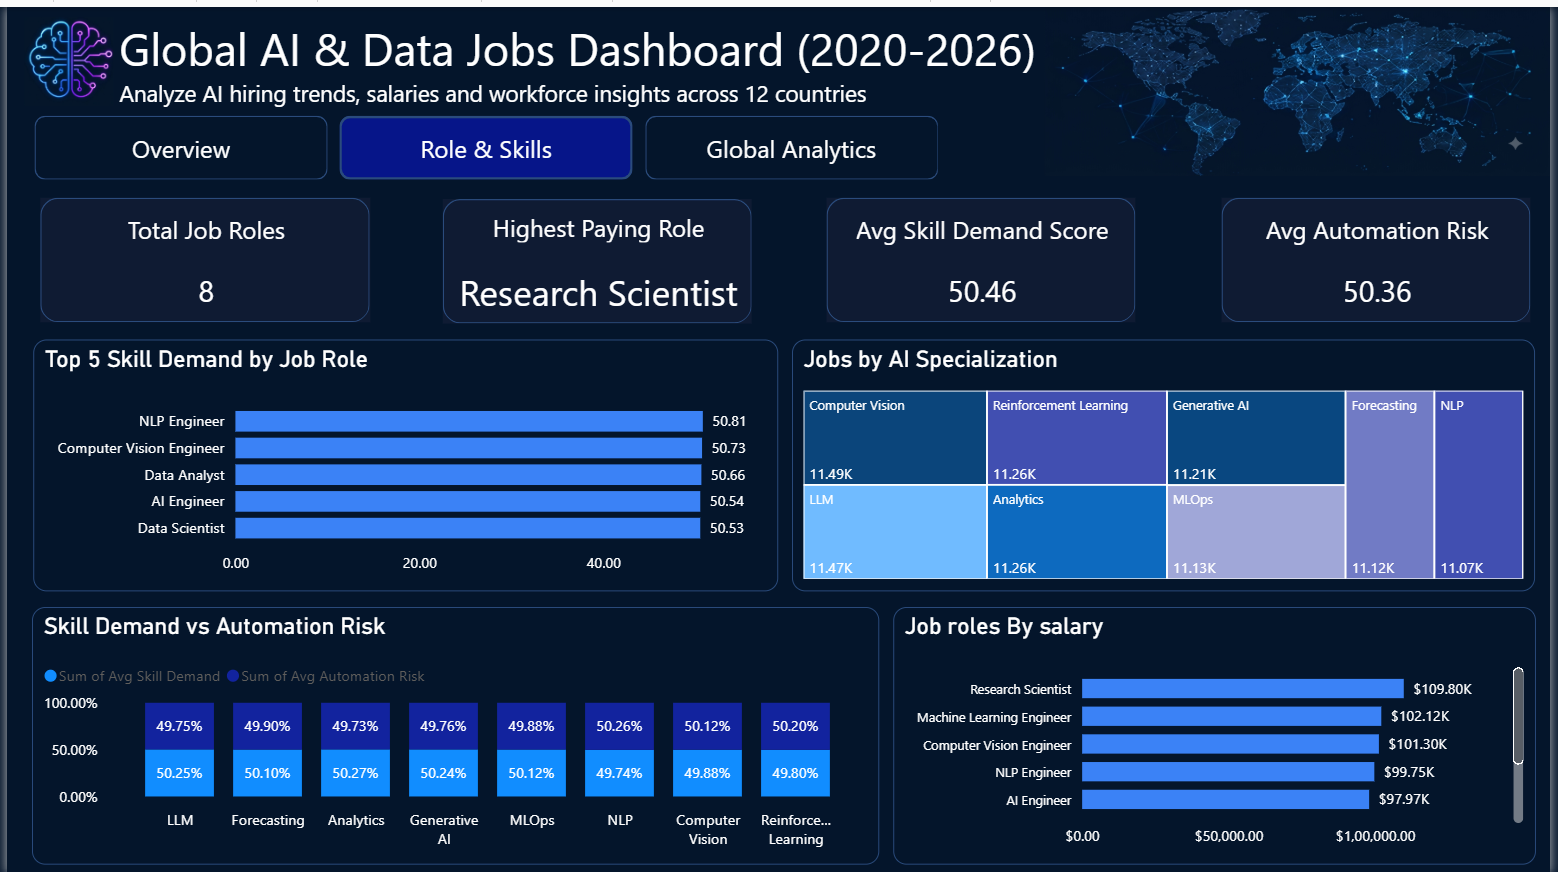

The dashboard page shown, as its layout file describes it:
{"tool":"powerbi","page":{"name":"Role & Skills","canvas":[1280,720],"ordinal":1},"visuals":[{"type":"image","box":[0,8.1,105.8,73.3],"z":0},{"type":"textbox","box":[88.4,4.7,884.9,86],"z":1000},{"type":"image","box":[860.2,0,419.8,144.2],"z":2000},{"type":"pageNavigator","box":[22.3,90.4,1257.3,53.6],"z":3000},{"type":"cardVisual","fields":{"Data":["Count(global_ai_jobs.job_role)"]},"box":[22.3,153,283.7,114],"z":4000},{"type":"cardVisual","fields":{"Data":["global_ai_jobs.Highest Paying Role"]},"box":[356.2,154.1,266.7,113.3],"z":5000},{"type":"cardVisual","fields":{"Data":["global_ai_jobs.Avg Skill Demand Score"]},"box":[674.4,153,266.7,113.3],"z":6000},{"type":"cardVisual","fields":{"Data":["global_ai_jobs.Avg Automation Risk"]},"box":[1001.6,153,266.7,113.3],"z":7000},{"type":"clusteredBarChart","title":"Top 5 Skill Demand by Job Role","fields":{"Y":["global_ai_jobs.Avg Skill Demand Score"],"Category":["global_ai_jobs.job_role"]},"box":[22,275.8,617.5,208.6],"z":8000},{"type":"treemap","title":"Jobs by AI Specialization","fields":{"Group":["global_ai_jobs.ai_specialization"],"Values":["CountNonNull(global_ai_jobs.id)"]},"box":[651,275.8,616.4,208.8],"z":9000},{"type":"hundredPercentStackedColumnChart","title":"Skill Demand vs Automation Risk","fields":{"Category":["AI_Specialization_Summary.ai_specialization"],"Y":["Sum(AI_Specialization_Summary.Avg Skill Demand)","Sum(AI_Specialization_Summary.Avg Automation Risk)"]},"box":[21.2,496.9,702.4,213.3],"z":10000},{"type":"clusteredBarChart","title":"Job roles By salary","fields":{"Category":["global_ai_jobs.job_role"],"Y":["global_ai_jobs.Avg Salary (USD)"]},"box":[734.7,496.9,532.6,213.3],"z":11000}]}

Visuals, with their boxes in screenshot pixels (x1, y1, x2, y2), scaled from the page's 1280x720 canvas onto the 1558x872 screenshot:
image: BBox(0, 10, 129, 99)
textbox: BBox(108, 6, 1185, 110)
image: BBox(1047, 0, 1557, 175)
pageNavigator: BBox(27, 109, 1557, 174)
cardVisual - Count(global_ai_jobs.job_role): BBox(27, 185, 372, 323)
cardVisual - global_ai_jobs.Highest Paying Role: BBox(434, 187, 758, 324)
cardVisual - global_ai_jobs.Avg Skill Demand Score: BBox(821, 185, 1145, 323)
cardVisual - global_ai_jobs.Avg Automation Risk: BBox(1219, 185, 1544, 323)
"Top 5 Skill Demand by Job Role" clusteredBarChart: BBox(27, 334, 778, 587)
"Jobs by AI Specialization" treemap: BBox(792, 334, 1543, 587)
"Skill Demand vs Automation Risk" hundredPercentStackedColumnChart: BBox(26, 602, 881, 860)
"Job roles By salary" clusteredBarChart: BBox(894, 602, 1543, 860)
